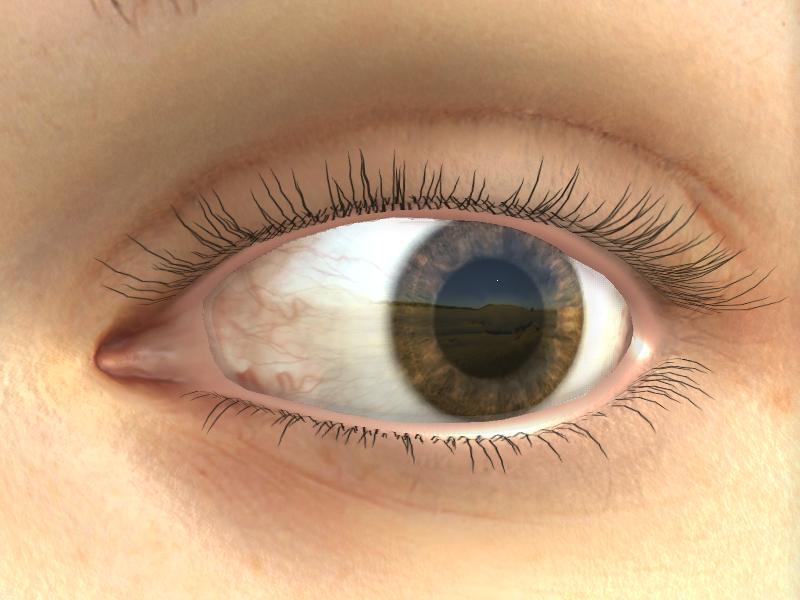eye: (390, 219, 578, 416)
